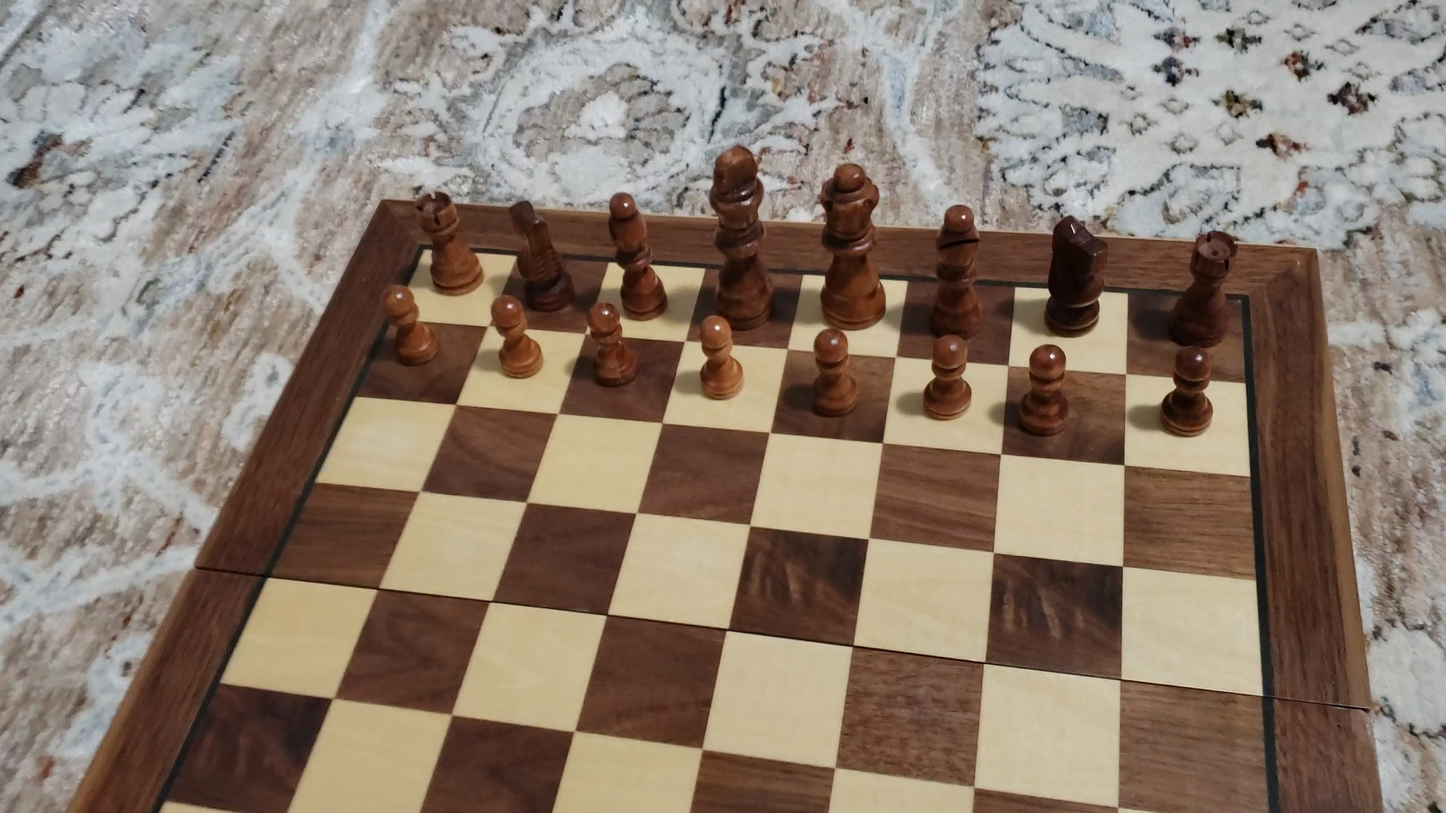black-bishop: (929, 200, 984, 340), (607, 190, 665, 318)
black-king: (703, 142, 777, 333)
black-knight: (1043, 212, 1108, 336), (508, 196, 576, 313)
black-pawn: (1157, 344, 1218, 440), (380, 282, 442, 369), (1018, 342, 1073, 439), (583, 300, 639, 391), (809, 326, 861, 419), (922, 332, 973, 422), (490, 295, 543, 381), (698, 312, 744, 401)
black-queen: (811, 159, 888, 330)
black-rook: (1166, 229, 1239, 348), (413, 187, 484, 296)
